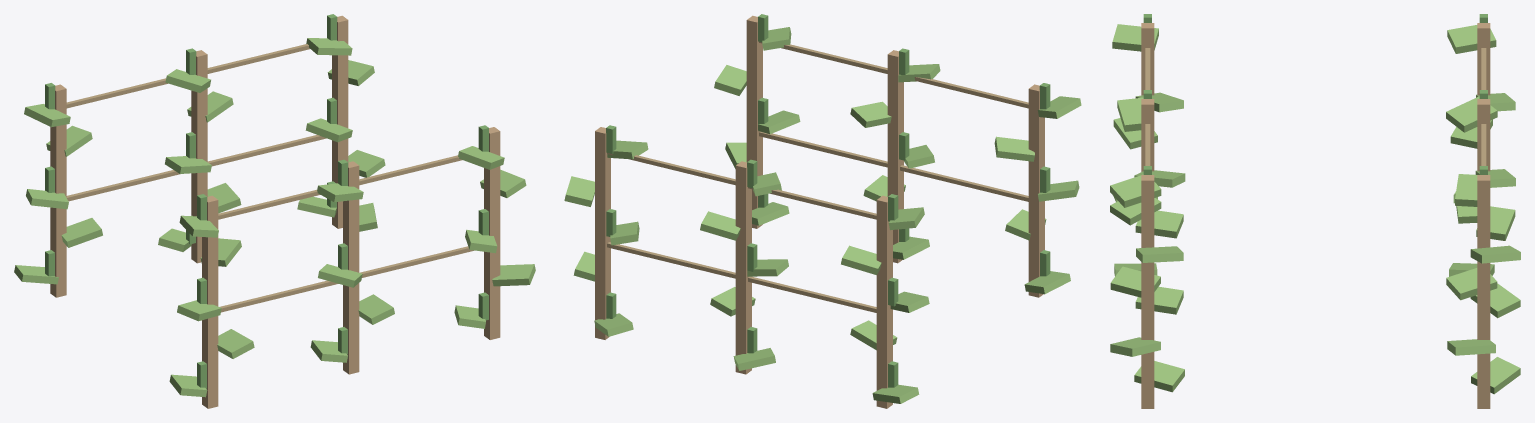
File: crop_peas_growing.glb
3 views of the same model, side by side, from view 1: azimuth 30°, elevation 25°; view 2: azimuth 150°, elevation 25°; view 3: azimuth 270°, elevation 25° (orthographic). The views are drawn at different scales.
Parts seen in each view (by area): view 1: leaf, wood, rope, leaf_dark; view 2: leaf, wood, rope, leaf_dark; view 3: leaf, wood, rope, leaf_dark.
Part boxes in pixels (left/top/right/bottom): leaf: left=14, top=38, right=535, bottom=397; wood: left=50, top=15, right=500, bottom=408; rope: left=66, top=44, right=474, bottom=312; leaf_dark: left=45, top=14, right=488, bottom=388; leaf: left=564, top=27, right=1081, bottom=403; wood: left=595, top=15, right=1044, bottom=408; rope: left=607, top=41, right=1028, bottom=312; leaf_dark: left=606, top=14, right=1050, bottom=387; leaf: left=1110, top=24, right=1520, bottom=394; wood: left=1141, top=23, right=1490, bottom=408; rope: left=1145, top=48, right=1486, bottom=165; leaf_dark: left=1143, top=14, right=1487, bottom=174.
Size of the model in its own units: 0.7557 by 0.43 by 0.6845.
